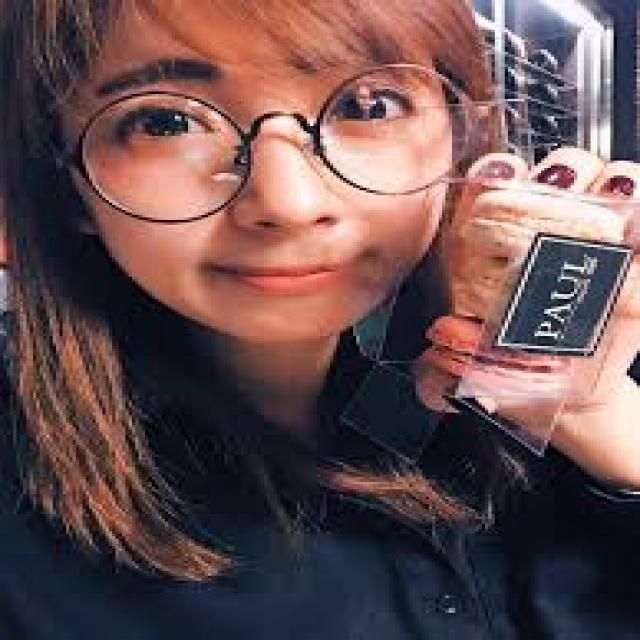Glasses: (51, 72, 468, 222)
